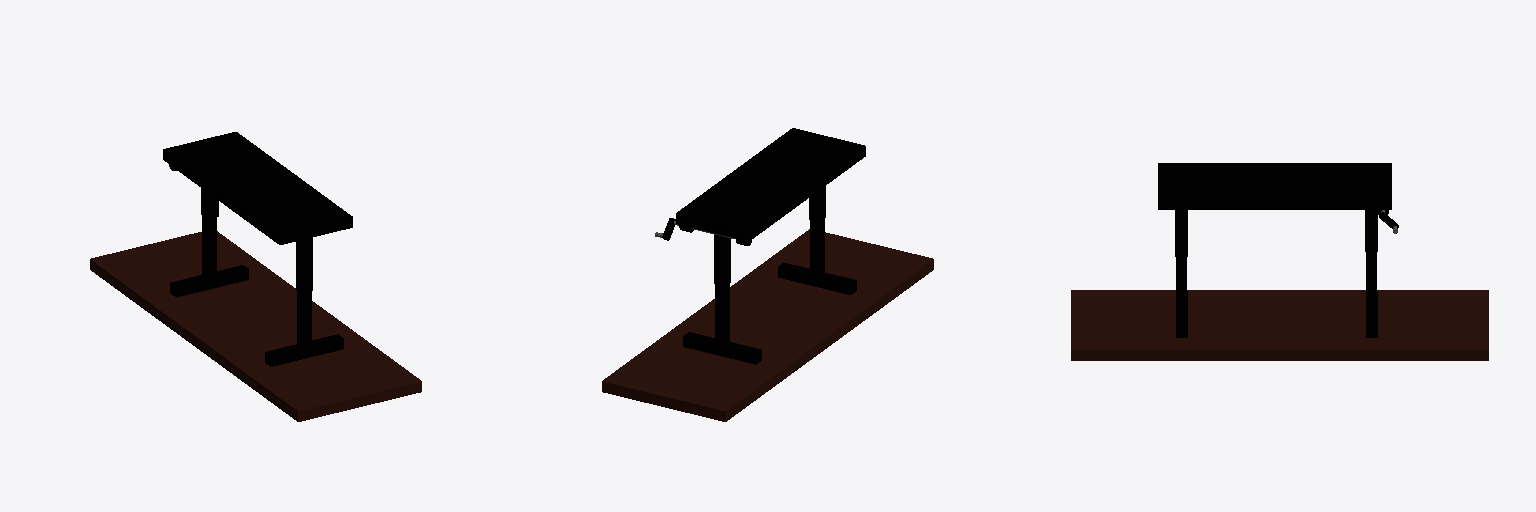
The model's file is Standing Desk.obj.
3 renders of one model, left to right at view 1: azimuth 30°, elevation 25°; view 2: azimuth 150°, elevation 25°; view 3: azimuth 270°, elevation 25°, orthographic.
Visible parts, largest first — view 1: group[number redacted], group[number redacted], group[number redacted], group[number redacted], group[number redacted], group[number redacted], group[number redacted]; view 2: group[number redacted], group[number redacted], group[number redacted], group[number redacted], group[number redacted], group[number redacted], group[number redacted]; view 3: group[number redacted], group[number redacted], group[number redacted], group[number redacted], group[number redacted], group[number redacted].
Boxes of the visible parts, x1,y1,x2,y2 form: group[number redacted]: [90, 231, 421, 421]; group[number redacted]: [163, 132, 352, 244]; group[number redacted]: [265, 334, 343, 366]; group[number redacted]: [170, 265, 248, 297]; group[number redacted]: [296, 238, 312, 293]; group[number redacted]: [202, 216, 216, 278]; group[number redacted]: [297, 290, 311, 347]; group[number redacted]: [602, 229, 933, 421]; group[number redacted]: [676, 128, 865, 241]; group[number redacted]: [778, 263, 856, 294]; group[number redacted]: [683, 332, 761, 364]; group[number redacted]: [715, 283, 729, 345]; group[number redacted]: [714, 234, 730, 285]; group[number redacted]: [810, 219, 824, 275]; group[number redacted]: [1071, 290, 1488, 360]; group[number redacted]: [1158, 163, 1391, 209]; group[number redacted]: [1366, 252, 1376, 310]; group[number redacted]: [1175, 210, 1187, 256]; group[number redacted]: [1176, 257, 1186, 310]; group[number redacted]: [1365, 210, 1377, 251].
Size of the model in its own units: 0.9632 by 1.11 by 2.8.